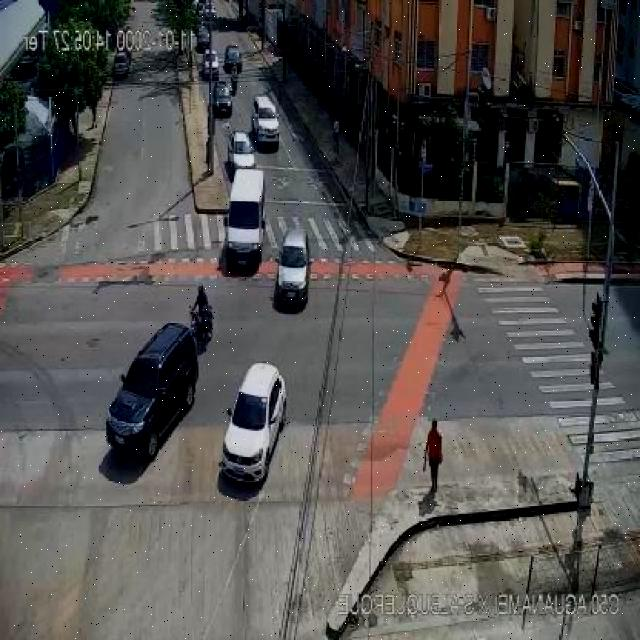Car: (104, 324, 197, 462), (218, 362, 288, 488), (274, 227, 316, 304), (251, 95, 284, 150), (228, 129, 257, 174), (212, 80, 235, 120), (202, 48, 224, 86), (223, 42, 246, 70)
Cycle: (188, 286, 215, 346)
Truck: (222, 170, 268, 269)
